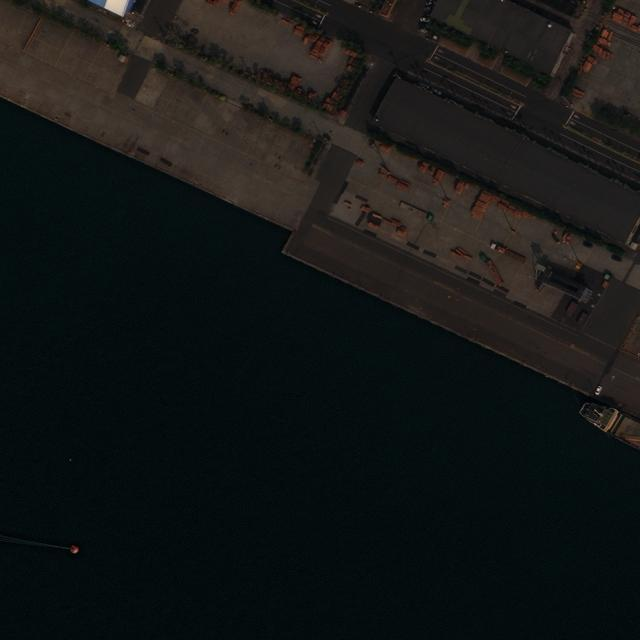Container Ship: (577, 399, 640, 451)
